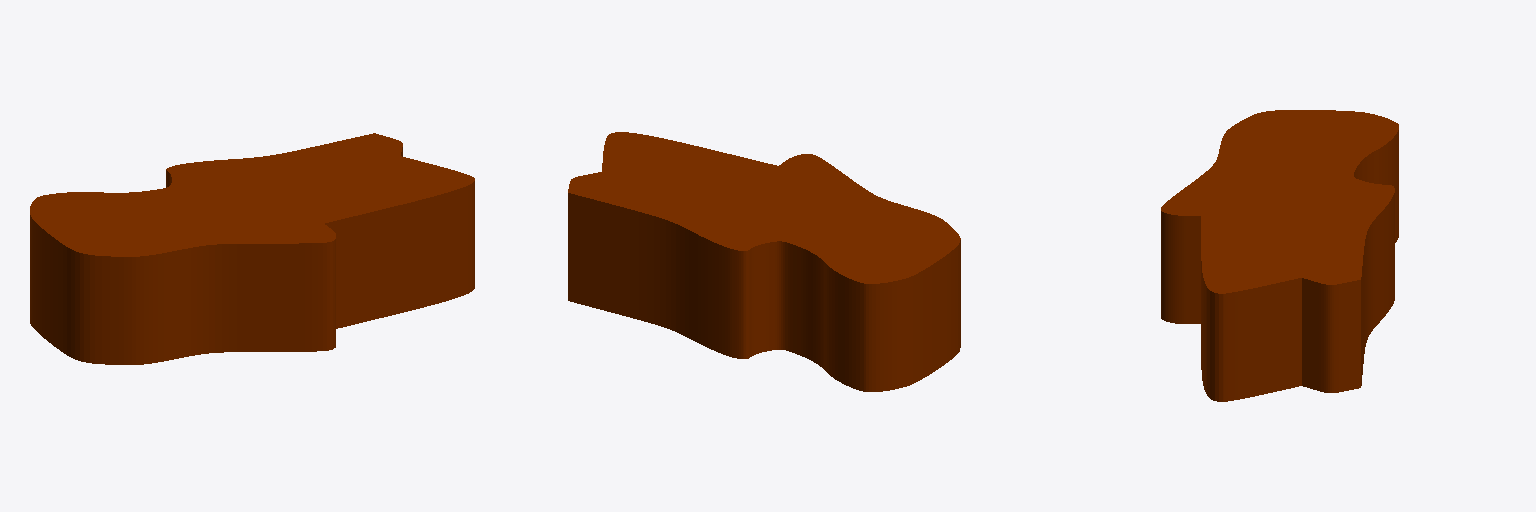
File: Africa_03.obj
The picture shows the model from 3 angles: view 1: azimuth 30°, elevation 25°; view 2: azimuth 150°, elevation 25°; view 3: azimuth 270°, elevation 25°; orthographic projection.
Visible parts, largest first — view 1: Africa_03_path4224; view 2: Africa_03_path4224; view 3: Africa_03_path4224.
Part boxes in pixels (left/top/right/bottom): Africa_03_path4224: left=30, top=133, right=474, bottom=364; Africa_03_path4224: left=568, top=132, right=960, bottom=391; Africa_03_path4224: left=1161, top=110, right=1398, bottom=401.
Bounding box in the file's own units: 0.3641 × 0.1 × 0.1998.